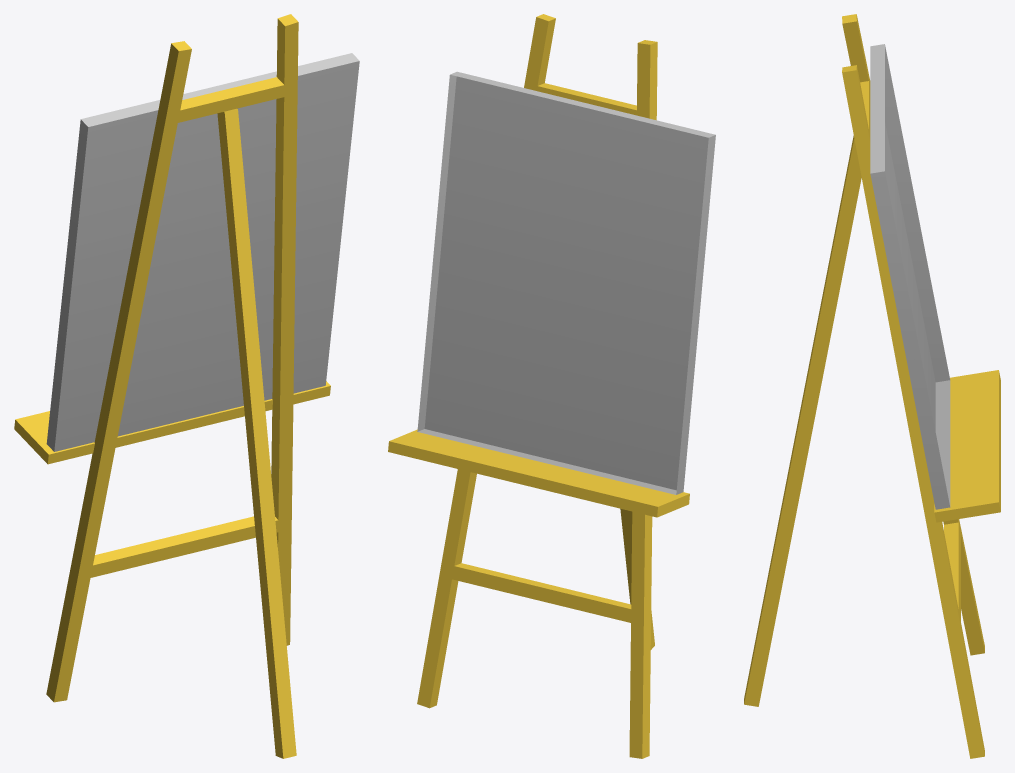
Rendered from Easel.fbx.
The picture shows the model from 3 angles, left to right: view 1: azimuth 30°, elevation 25°; view 2: azimuth 150°, elevation 25°; view 3: azimuth 270°, elevation 25°; orthographic projection. The views are drawn at different scales.
Visible parts, largest first — view 1: Easel; view 2: Easel; view 3: Easel.
Boxes of the visible parts, x1,y1,x2,y2 form: Easel: [14, 14, 359, 758]; Easel: [388, 14, 715, 758]; Easel: [744, 14, 1000, 758].
Size of the model in its own units: 63.36 by 148 by 51.95.
